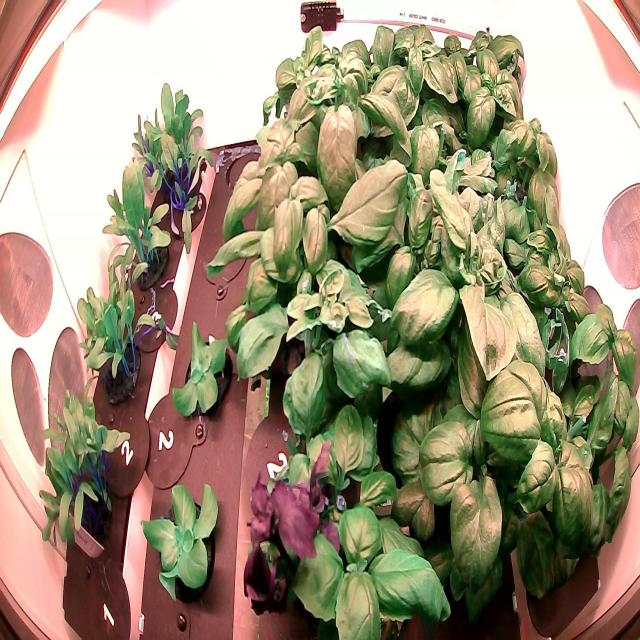empty_pod: (196, 220, 251, 299), (218, 139, 269, 210)
young: (134, 476, 232, 611), (167, 315, 234, 428)
